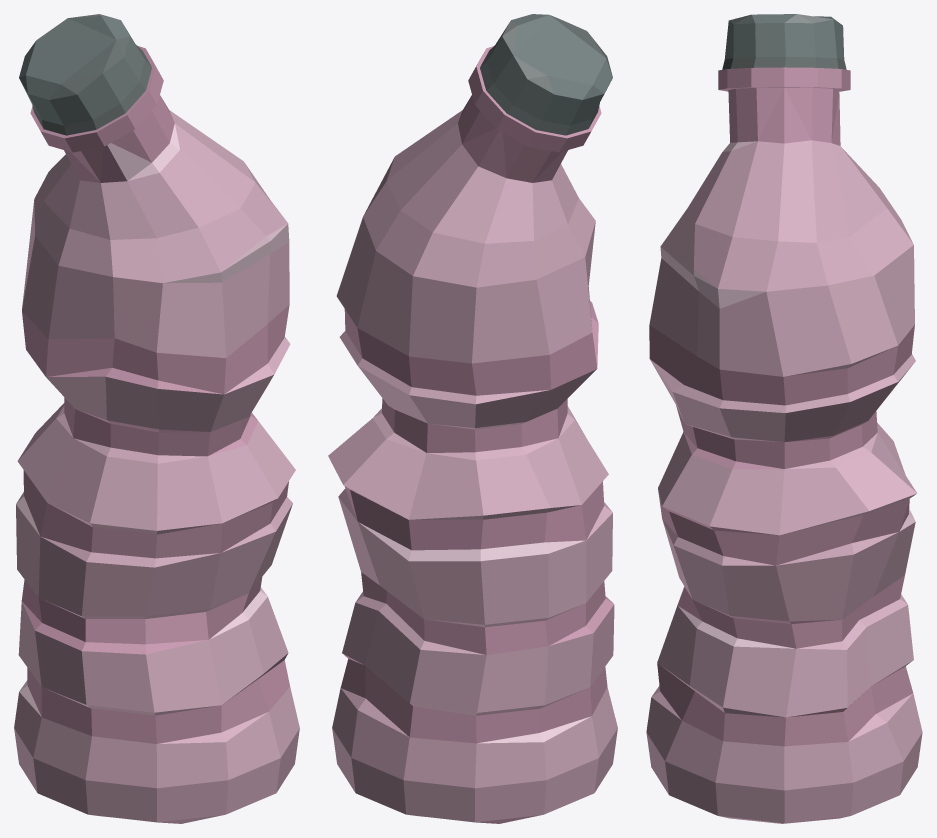
The model's file is mesh_bottle_03_empty.fbx.
3 views of the same model, side by side, from view 1: azimuth 30°, elevation 25°; view 2: azimuth 150°, elevation 25°; view 3: azimuth 270°, elevation 25° (orthographic). The views are drawn at different scales.
Parts seen in each view (by area): view 1: mesh_bottle_03_empty; view 2: mesh_bottle_03_empty; view 3: mesh_bottle_03_empty.
Boxes of the visible parts, <box> form: mesh_bottle_03_empty: <box>14,14,299,823</box>; mesh_bottle_03_empty: <box>328,14,617,823</box>; mesh_bottle_03_empty: <box>646,14,922,823</box>.
Bounding box in the file's own units: 0.1905 × 0.5533 × 0.1865.
